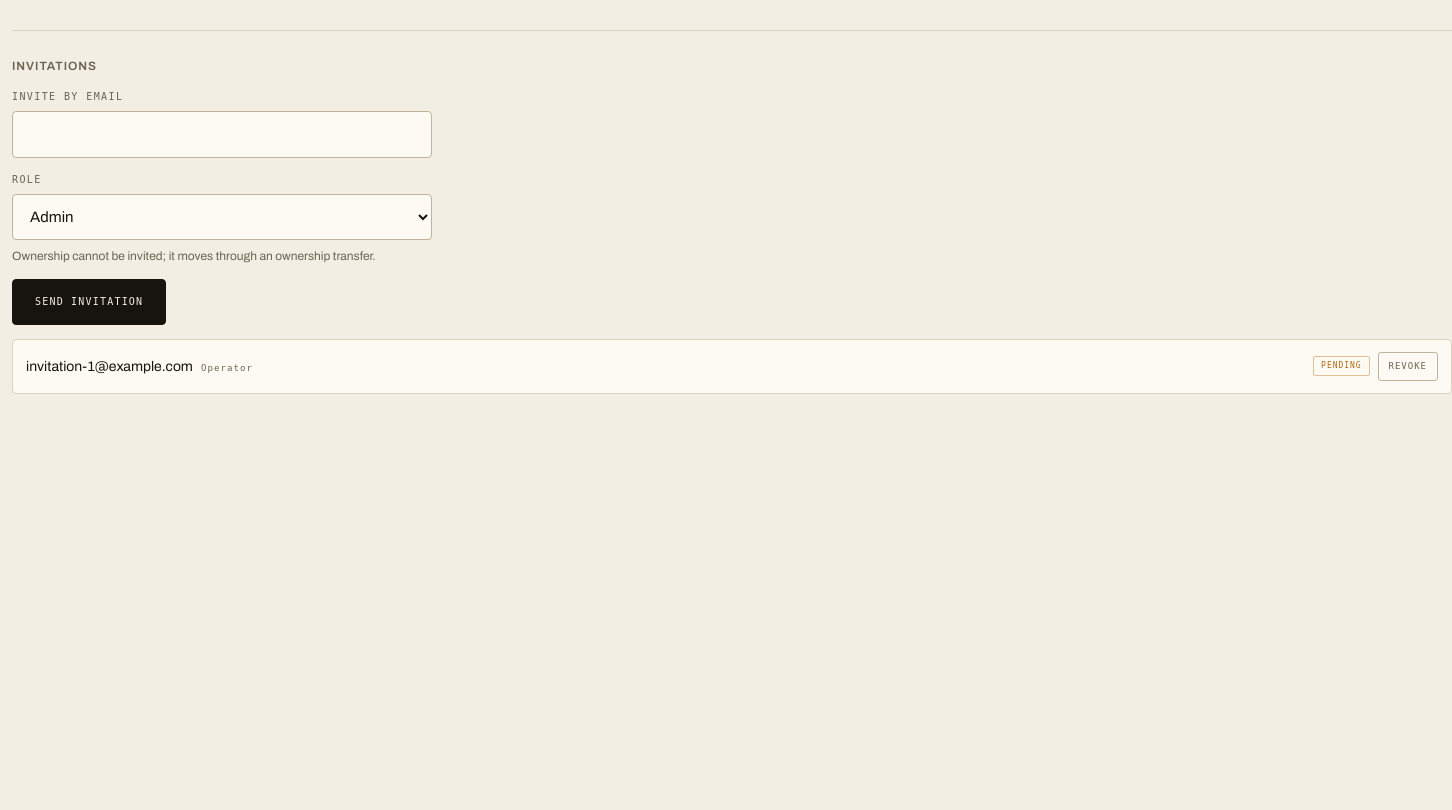
Scenario: InvitationPanel sending › sends an invitation and confirms delivery
Type "new@example.com" into the field labelled "INVITE BY EMAIL" at (222, 134), box [12,111,432,158]
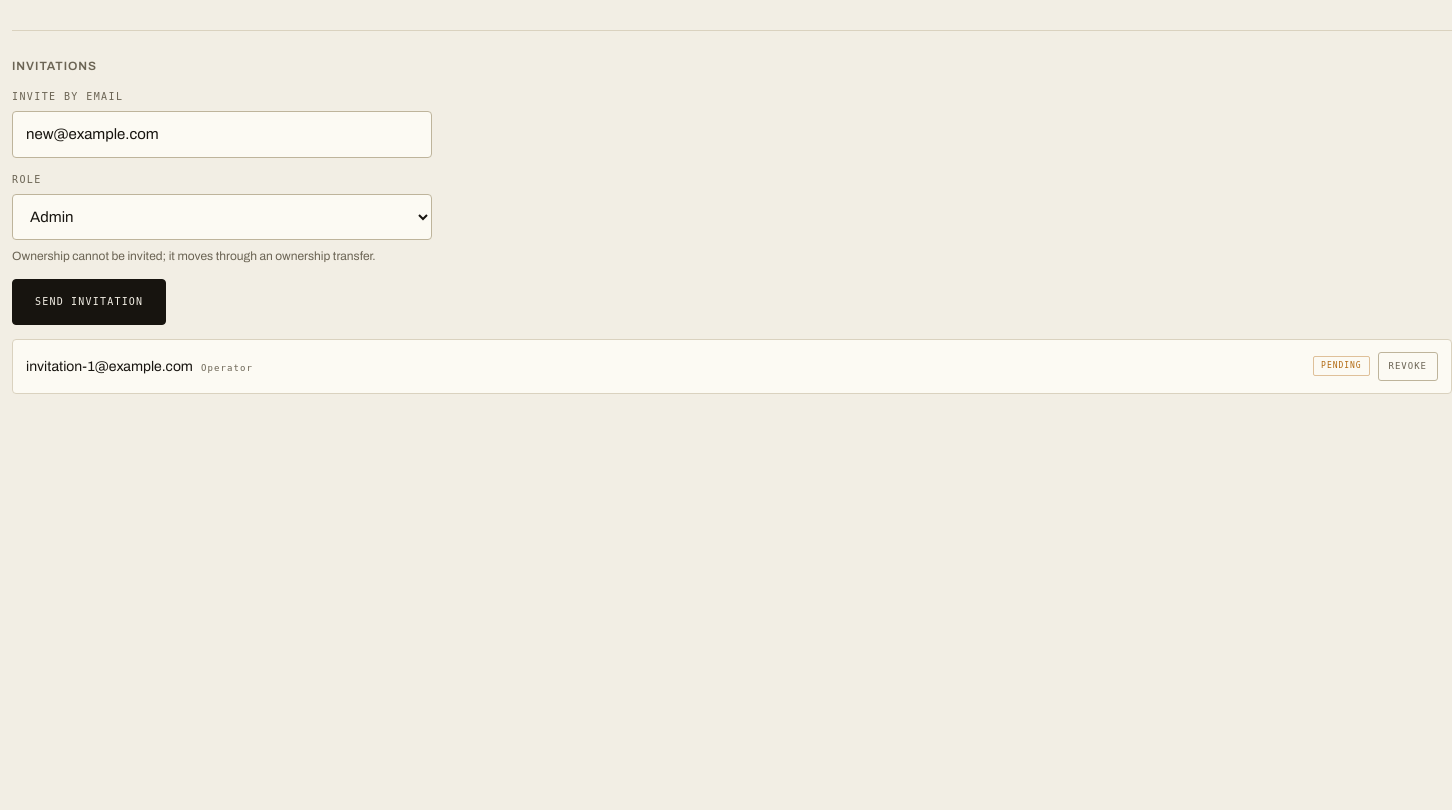
Select "Viewer" in the dropdown labelled "ROLE" at (222, 216), box [12,194,432,240]
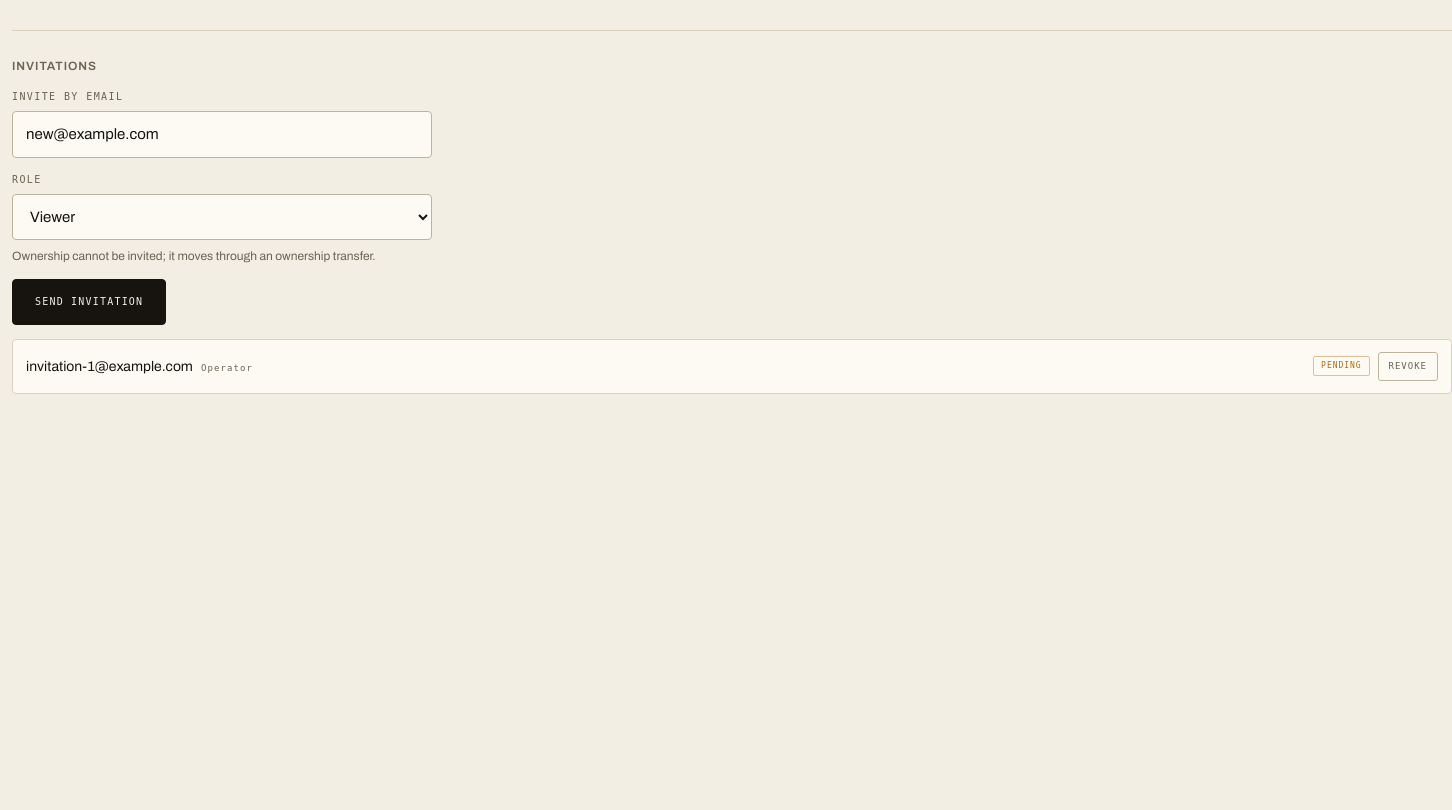
Click the button "SEND INVITATION" at (89, 302), box [12,278,166,324]
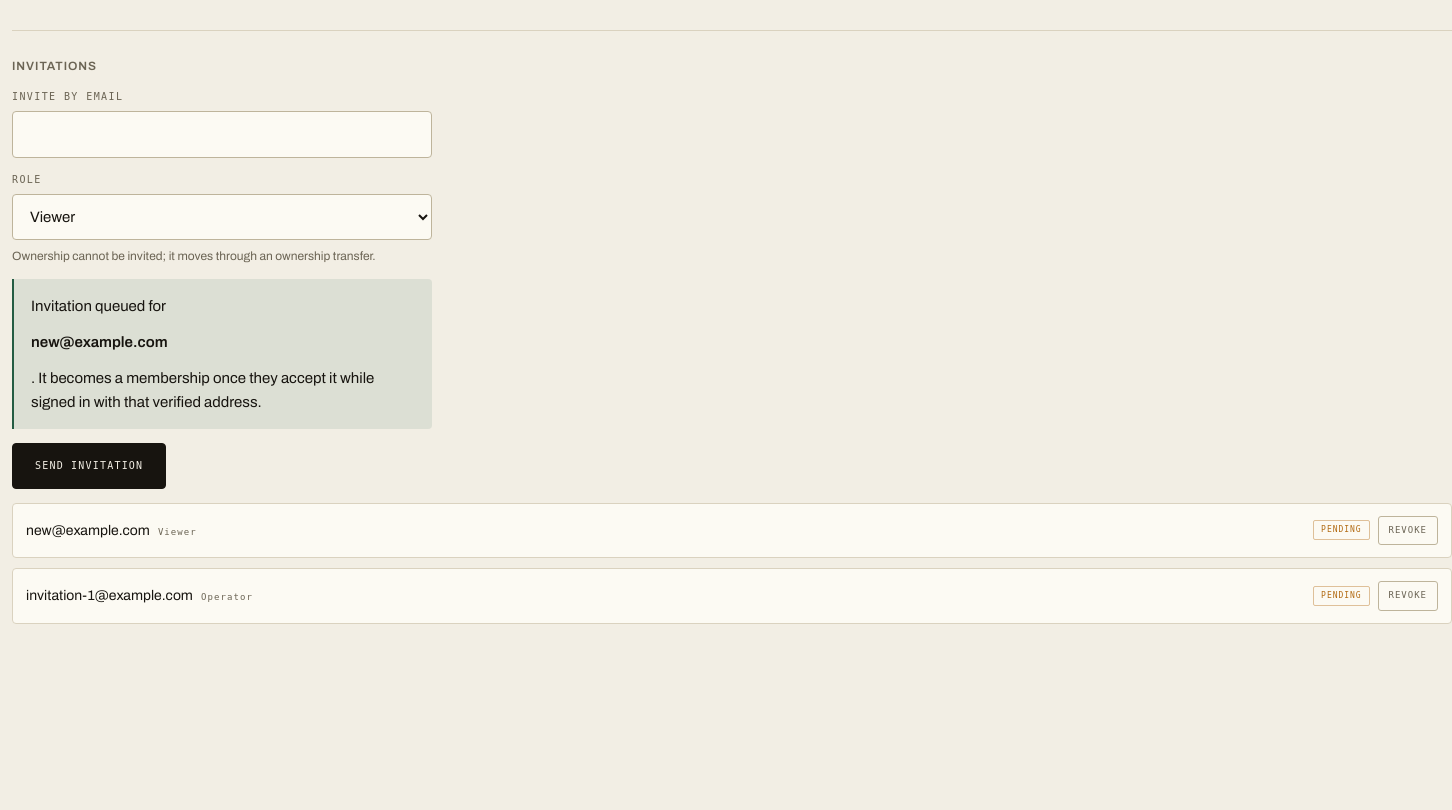
expect the message shows "new@example.com": met, box [31,334,168,350]
